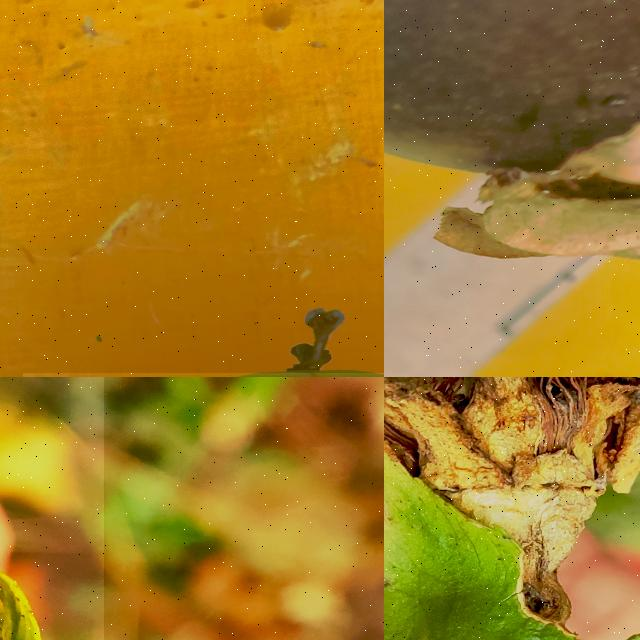Estado-3: (384, 377, 640, 640)
